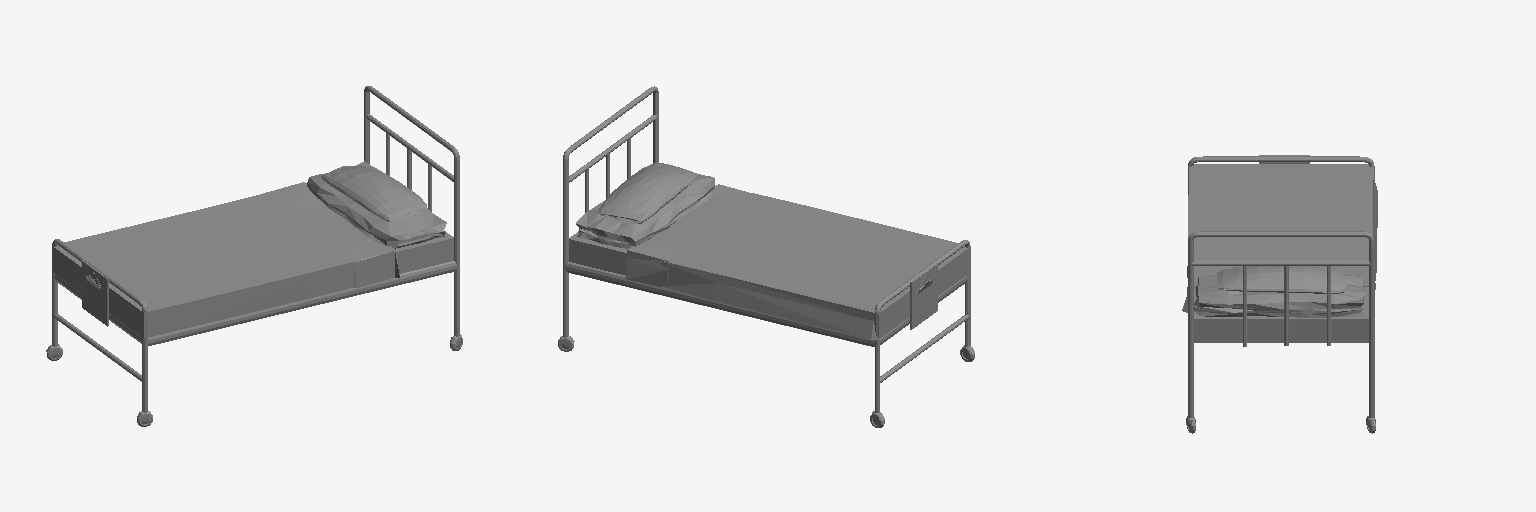
The model's file is hospitalBed.obj.
3 renders of one model, left to right at view 1: azimuth 30°, elevation 25°; view 2: azimuth 150°, elevation 25°; view 3: azimuth 270°, elevation 25°, orthographic.
Parts seen in each view (by area): view 1: Sheets_Hospital_bed_Sheet2, Sheet1_Sheets_Hospital_bed, Hospital_bed_Pillow_Pillow2, Hospital_bed_Pillow1_Pillow, Hospital_bed_Metal_Metal_bed9, Hospital_bed_Metal_bed_Metal, Hospital_bed_Mattress_Mattress, Hospital_bed_Metal_Metal_bed6, Hospital_bed_wood_Carpet, Hospital_bed_Metal_Metal_bed1, Hospital_bed_Metal_Metal_bed8, Hospital_bed_Carpet_paper; view 2: Sheets_Hospital_bed_Sheet2, Sheet1_Sheets_Hospital_bed, Hospital_bed_Pillow1_Pillow, Hospital_bed_Pillow_Pillow2, Hospital_bed_Metal_Metal_bed5, Hospital_bed_Metal_bed_Metal, Hospital_bed_Mattress_Mattress, Hospital_bed_Metal_Metal_bed6, Hospital_bed_wood_Carpet, Hospital_bed_Metal_Metal_bed8, Hospital_bed_Metal_Metal_bed1, Hospital_bed_Carpet_paper; view 3: Sheets_Hospital_bed_Sheet2, Hospital_bed_Pillow_Pillow2, Hospital_bed_Mattress_Mattress, Hospital_bed_Metal_bed_Metal, Hospital_bed_Pillow1_Pillow, Hospital_bed_Metal_Metal_bed6, Hospital_bed_Metal_Metal_bed1, Sheet1_Sheets_Hospital_bed.
Part boxes in pixels (x1,y1,x2,y2): Sheets_Hospital_bed_Sheet2: (52, 194, 360, 337); Sheet1_Sheets_Hospital_bed: (263, 182, 399, 287); Hospital_bed_Pillow_Pillow2: (307, 161, 446, 248); Hospital_bed_Pillow1_Pillow: (322, 165, 426, 221); Hospital_bed_Metal_Metal_bed9: (148, 261, 456, 345); Hospital_bed_Metal_bed_Metal: (364, 86, 459, 336); Hospital_bed_Mattress_Mattress: (395, 231, 453, 273); Hospital_bed_Metal_Metal_bed6: (52, 239, 147, 412); Hospital_bed_wood_Carpet: (82, 260, 108, 326); Hospital_bed_Metal_Metal_bed1: (365, 114, 453, 181); Hospital_bed_Metal_Metal_bed8: (53, 314, 141, 381); Hospital_bed_Carpet_paper: (84, 276, 104, 317); Sheets_Hospital_bed_Sheet2: (661, 193, 970, 339); Sheet1_Sheets_Hospital_bed: (625, 184, 756, 287); Hospital_bed_Pillow1_Pillow: (598, 163, 696, 223); Hospital_bed_Pillow_Pillow2: (576, 173, 714, 248); Hospital_bed_Metal_Metal_bed5: (565, 262, 874, 346); Hospital_bed_Metal_bed_Metal: (563, 86, 658, 337); Hospital_bed_Mattress_Mattress: (569, 231, 626, 275); Hospital_bed_Metal_Metal_bed6: (875, 240, 970, 412); Hospital_bed_wood_Carpet: (910, 263, 937, 329); Hospital_bed_Metal_Metal_bed8: (880, 315, 968, 382); Hospital_bed_Metal_Metal_bed1: (569, 115, 657, 182); Hospital_bed_Carpet_paper: (914, 279, 934, 321); Sheets_Hospital_bed_Sheet2: (1188, 164, 1377, 280); Hospital_bed_Pillow_Pillow2: (1194, 275, 1364, 317); Hospital_bed_Mattress_Mattress: (1194, 287, 1368, 342); Hospital_bed_Metal_bed_Metal: (1188, 231, 1374, 417); Hospital_bed_Pillow1_Pillow: (1217, 266, 1345, 293); Hospital_bed_Metal_Metal_bed6: (1188, 156, 1374, 193); Hospital_bed_Metal_Metal_bed1: (1192, 261, 1370, 265); Sheet1_Sheets_Hospital_bed: (1182, 266, 1375, 312).
Size of the model in its own units: 2.1 by 1.24 by 1.09.